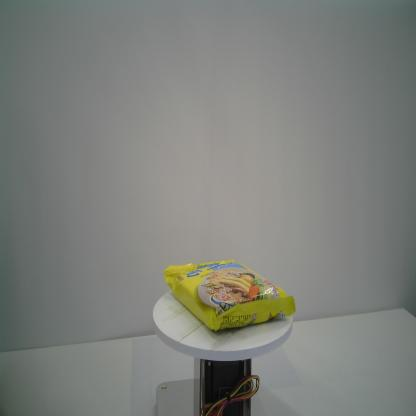Instant Noodles: (162, 258, 296, 332)
